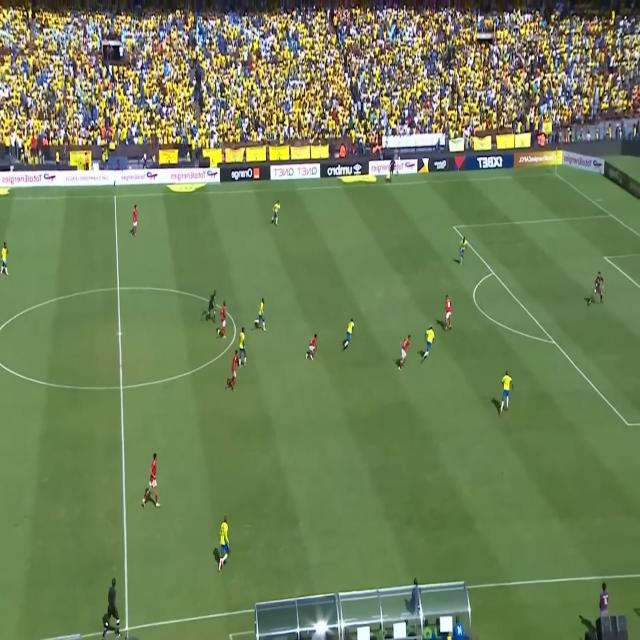Ball: (429, 325, 432, 328)
Keeper: (587, 266, 606, 314)
Player: (138, 449, 162, 516), (212, 512, 232, 578), (495, 366, 515, 415), (267, 192, 284, 232), (341, 317, 356, 354), (228, 347, 240, 393), (397, 334, 411, 373), (304, 328, 319, 362), (129, 200, 141, 242), (253, 296, 267, 332), (456, 234, 468, 273), (238, 325, 248, 369), (442, 292, 453, 332), (423, 327, 435, 362), (0, 236, 8, 281), (217, 298, 226, 338)
Ref: (100, 572, 121, 639), (202, 289, 217, 322), (386, 158, 396, 180)
